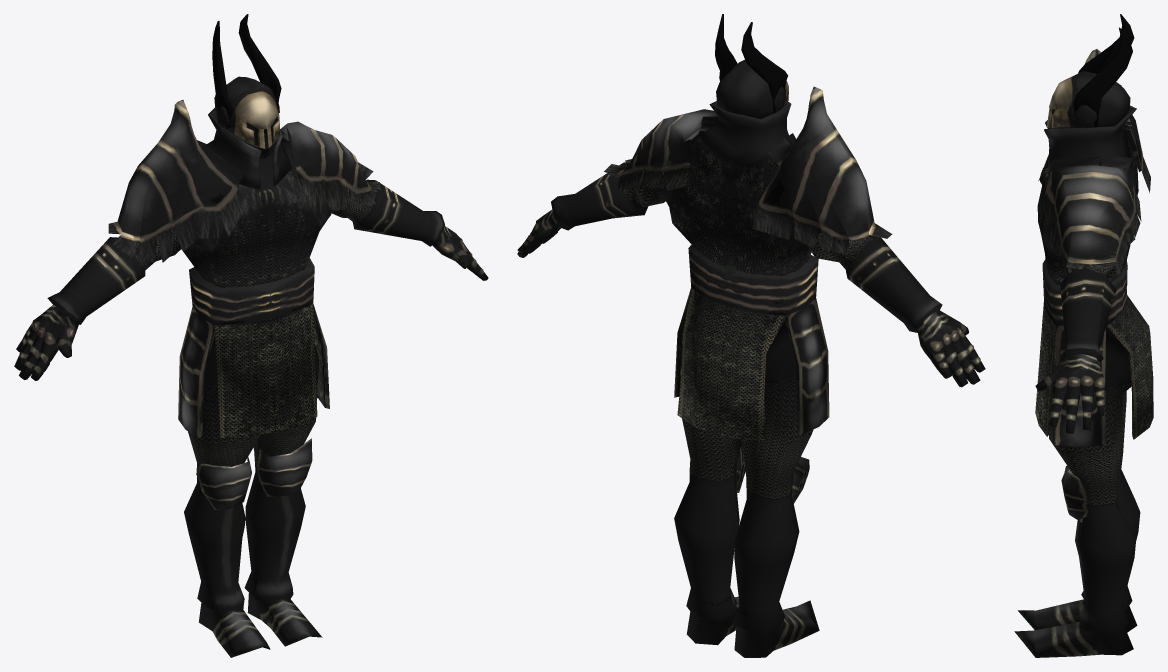
File: Black Knight.FBX
3 renders of one model, left to right at view 1: azimuth 30°, elevation 25°; view 2: azimuth 150°, elevation 25°; view 3: azimuth 270°, elevation 25°, orthographic. The views are drawn at different scales.
Parts seen in each view (by area): view 1: Box02, Box05, Box06, Box09, Box07, Plane11, Plane06; view 2: Box02, Box05, Box06, Plane06, Plane11; view 3: Box02, Box06, Plane11, Plane06, Box09, Box05, Box13, Box10, Box11.
Boxes of the visible parts, x1,y1,x2,y2 form: Box02: (14,76,488,657); Box05: (108,100,243,262); Box06: (280,121,380,212); Box09: (256,438,312,496); Box07: (196,457,251,509); Plane11: (238,14,281,107); Plane06: (212,21,234,129); Box02: (517,59,985,657); Box05: (752,86,892,254); Box06: (604,109,718,189); Plane06: (741,22,787,113); Plane11: (715,14,737,80); Box02: (1014,71,1153,657); Box06: (1040,154,1141,277); Plane11: (1073,27,1132,127); Plane06: (1078,14,1134,73); Box09: (1061,466,1086,522); Box05: (1038,49,1150,192); Box13: (1069,470,1088,520); Box10: (1121,124,1141,171); Box11: (1045,207,1137,275).
Bounding box in the file's own units: 73.06 × 19.3 × 93.94.
